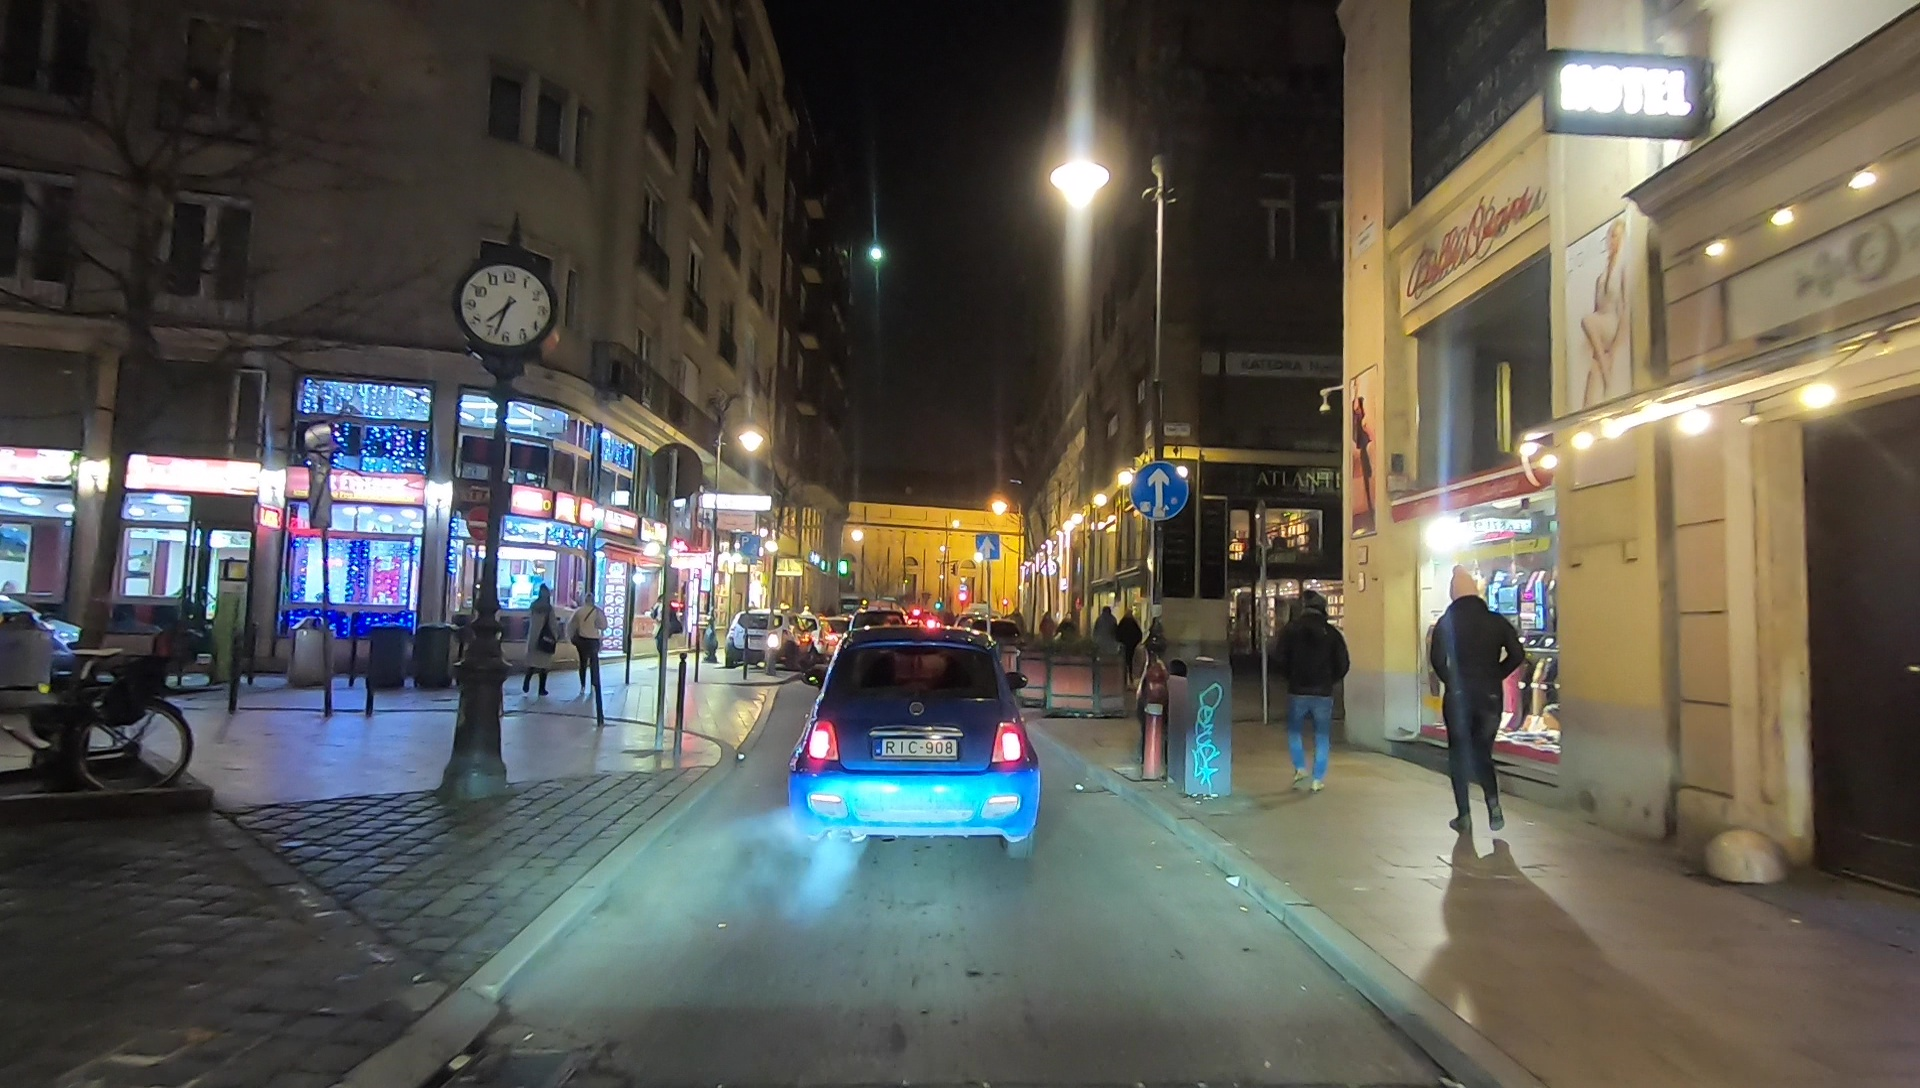person: (1426, 565, 1519, 836), (1271, 589, 1358, 793), (523, 578, 564, 699), (571, 599, 610, 693), (1093, 606, 1119, 691), (1119, 610, 1143, 689), (651, 589, 678, 660)
